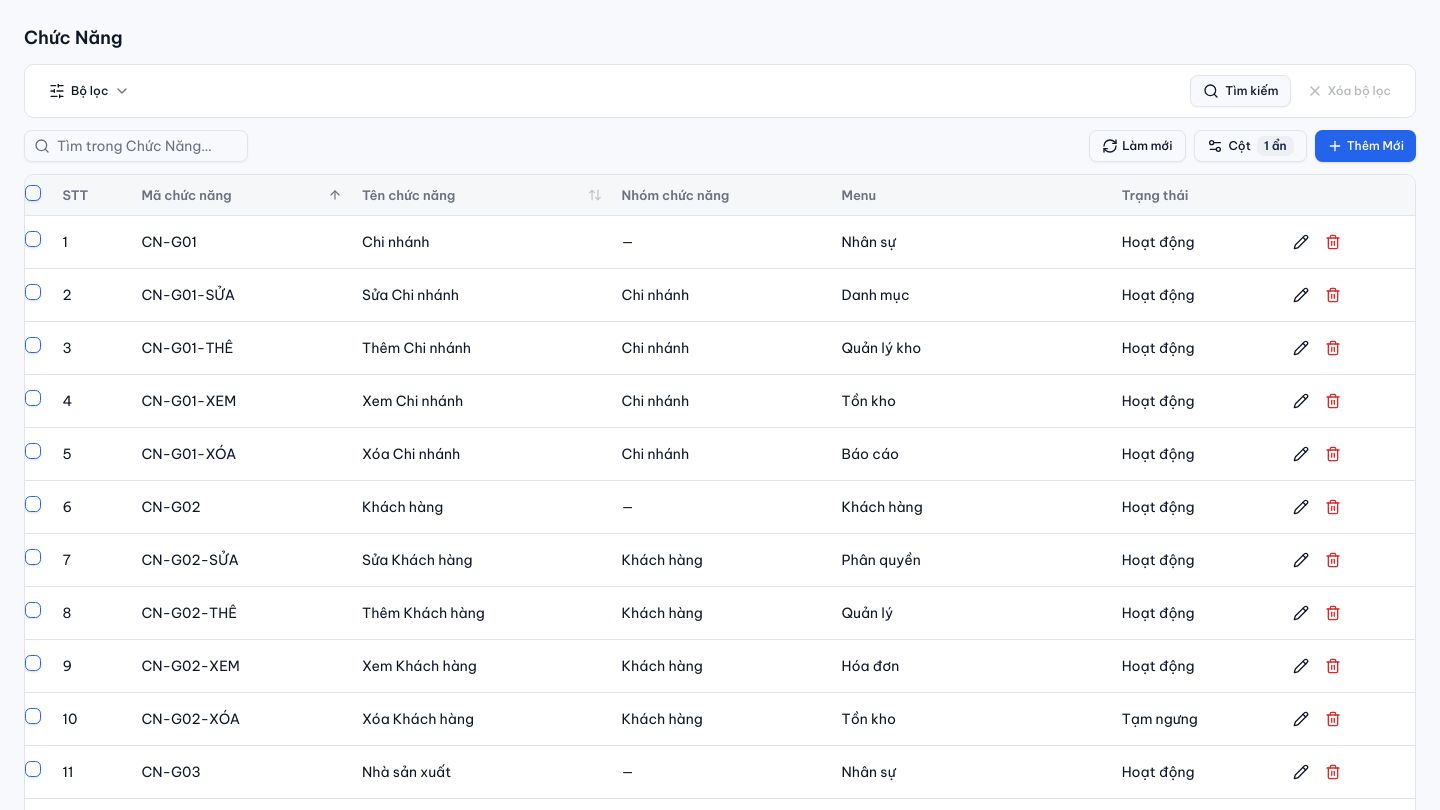
Test case: ChucNangPage › supports bulk-select via the Chọn tất cả column + row checkboxes
Expected: the checkbox named "Chọn tất cả" is shown, [25,185,41,201]
Click the 1st checkbox named "Chọn dòng" at (33, 239), box [25,231,41,247]
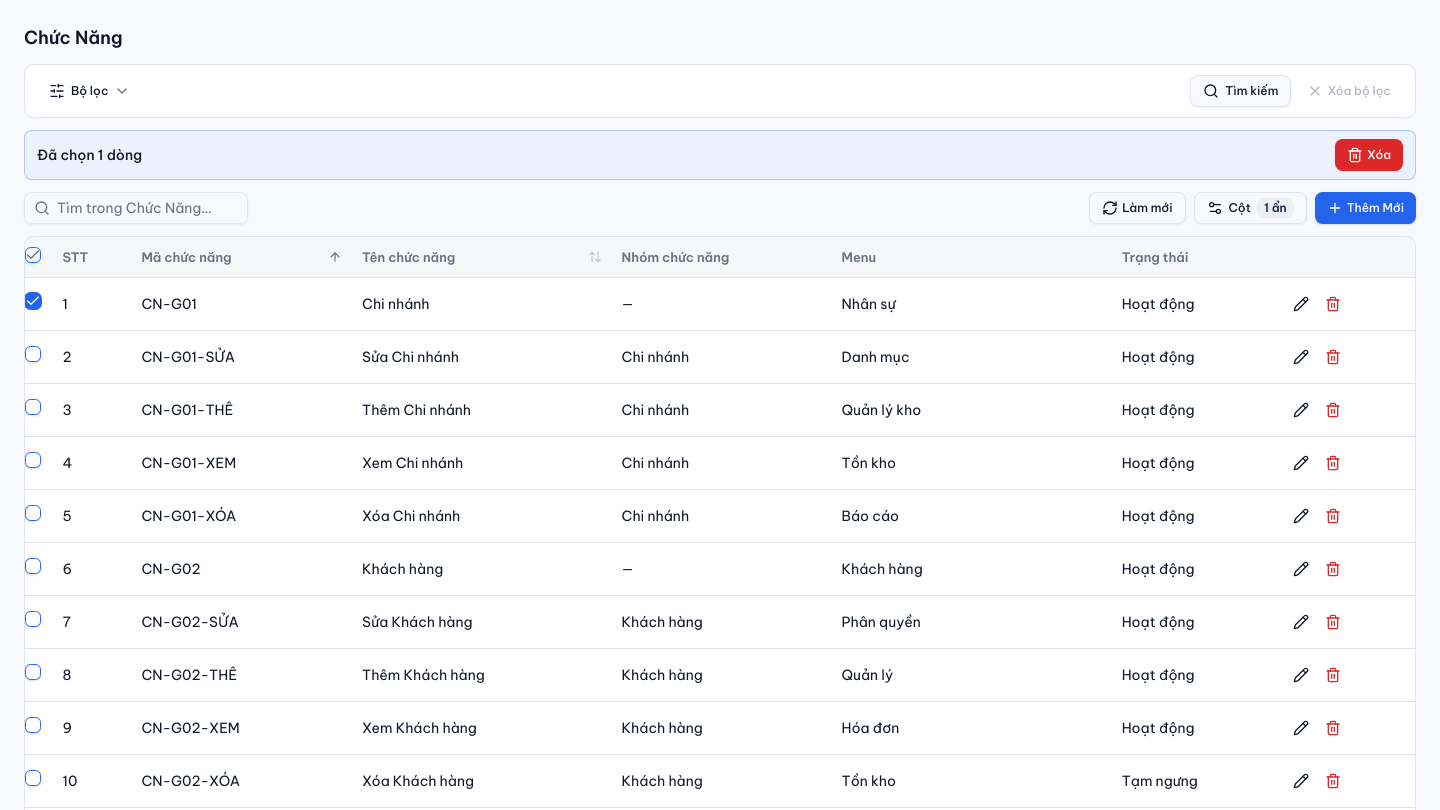
Now the text "Đã chọn 1 dòng" is shown, box [37,145,142,165]
